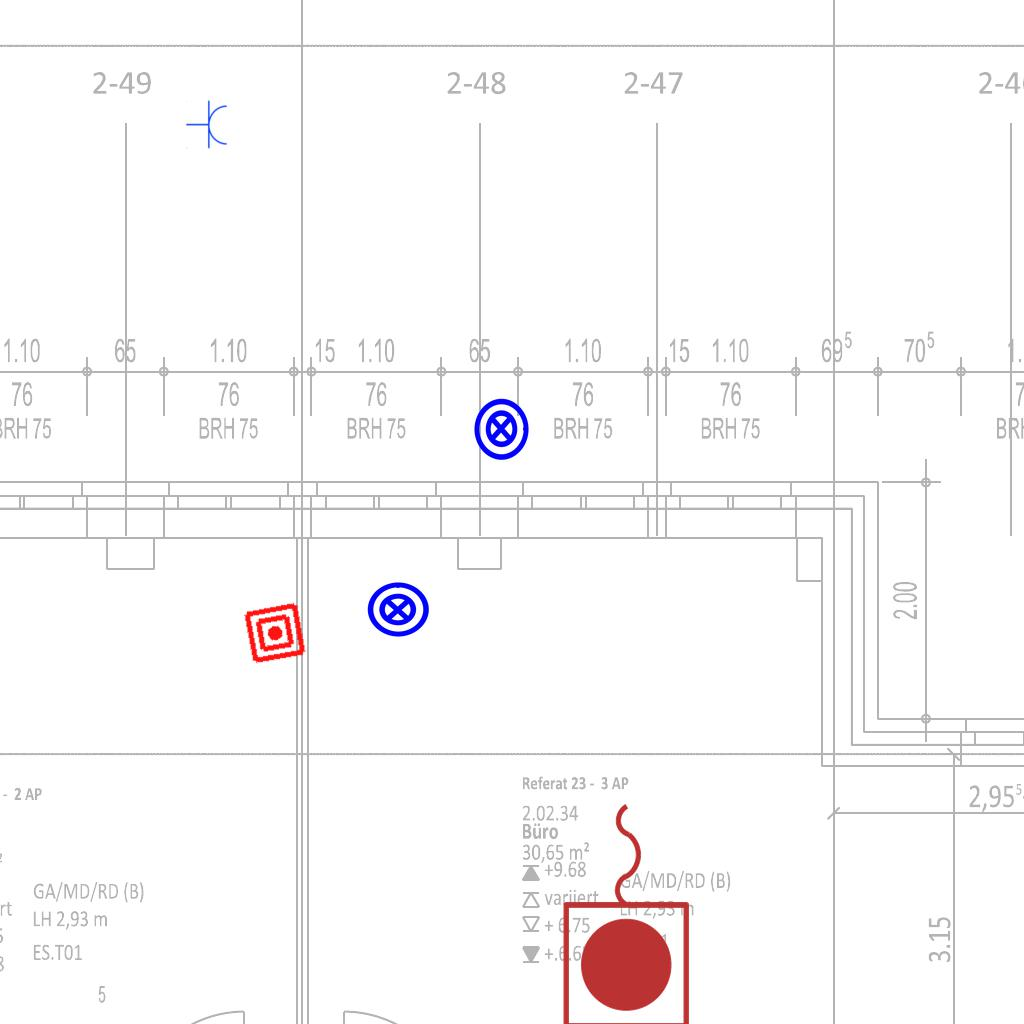NAM-Nichtautomatischer_Melder: (242, 600, 308, 666)
Schukosteckdose_einfach: (186, 100, 229, 150)
Taster_beleuchtet: (365, 577, 431, 643), (468, 396, 534, 462)
Zugtaster: (556, 793, 700, 1024)
